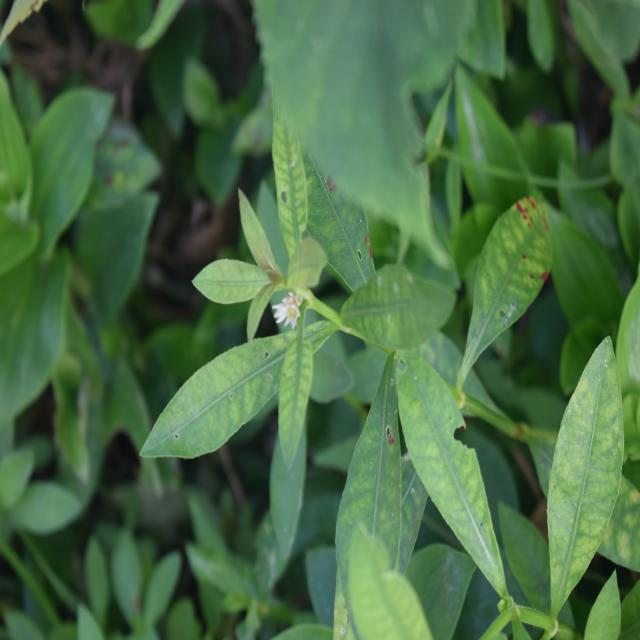Alligatorweed: (183, 130, 521, 547)
